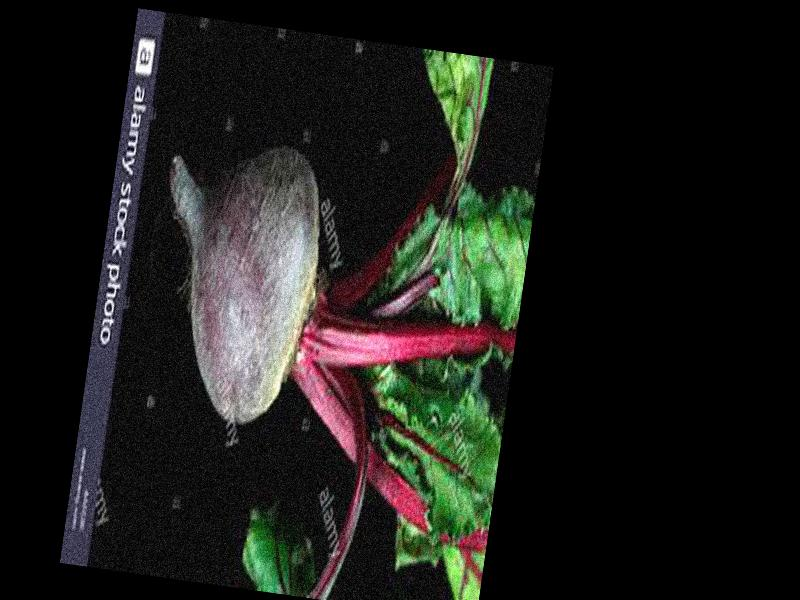Beet: (114, 19, 551, 600)
